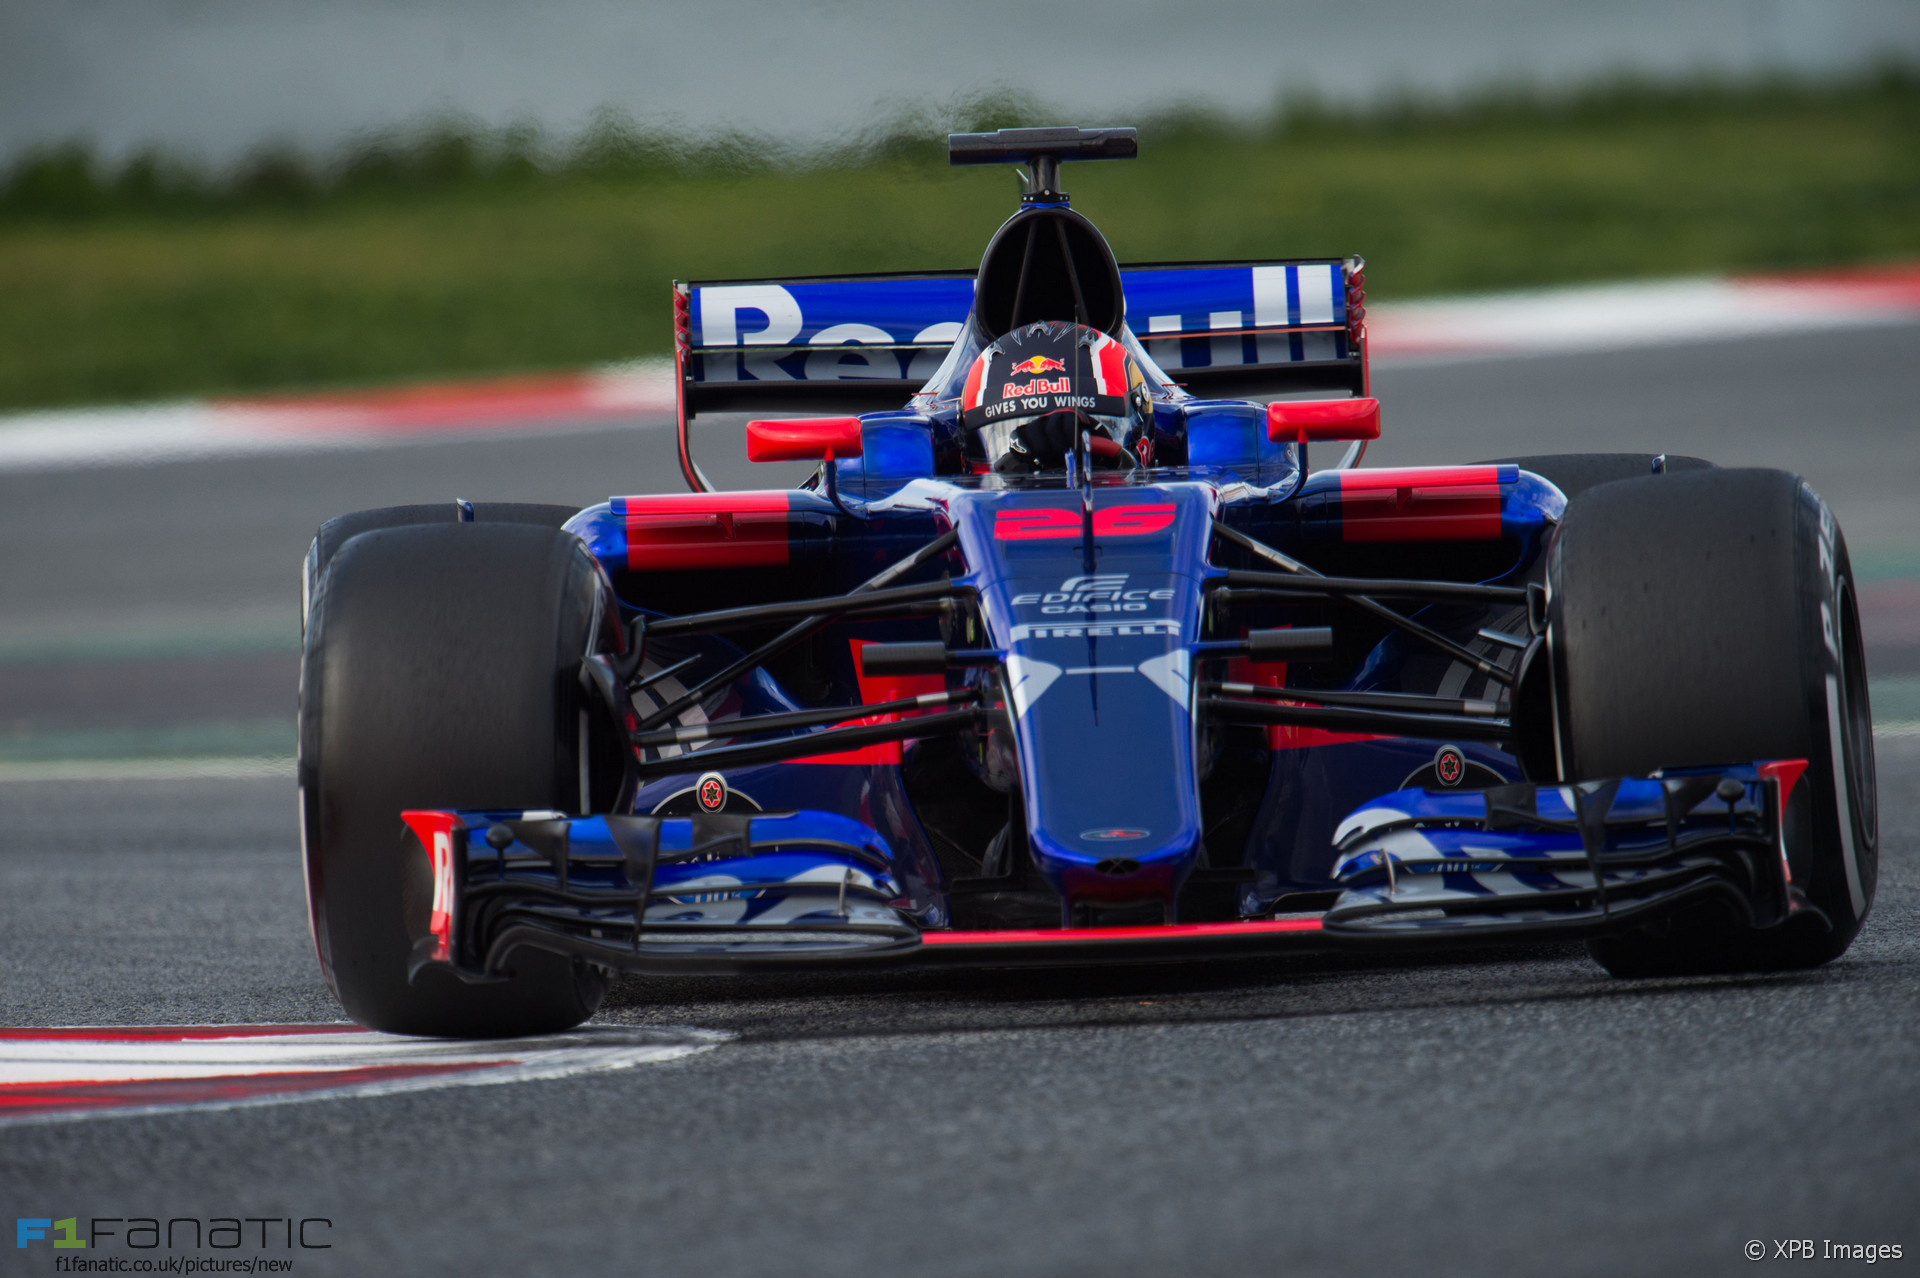F1 Car: (275, 107, 1889, 1055)
